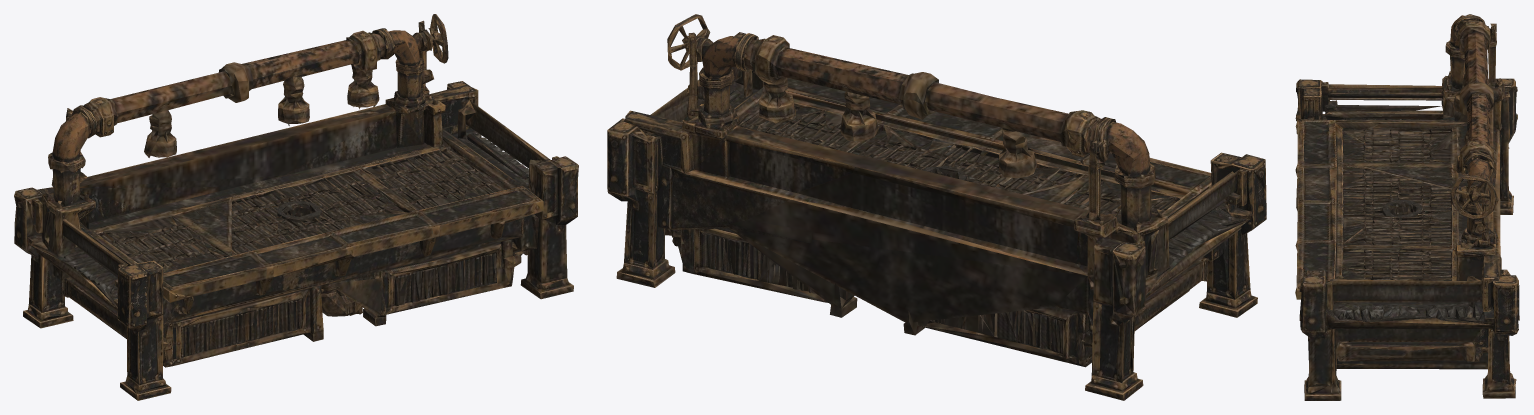
3 renders of one model, left to right at view 1: azimuth 30°, elevation 25°; view 2: azimuth 150°, elevation 25°; view 3: azimuth 270°, elevation 25°, orthographic. The views are drawn at different scales.
Visible parts, largest first — view 1: Mesh_0; view 2: Mesh_0; view 3: Mesh_0.
Part boxes in pixels (x1=…): Mesh_0: x1=14, y1=14, x2=578, y2=400; Mesh_0: x1=607, y1=14, x2=1266, y2=400; Mesh_0: x1=1295, y1=14, x2=1519, y2=400.
Bounding box in the file's own units: 1.9 × 0.8712 × 0.8664.
1 material, 1 textured.
